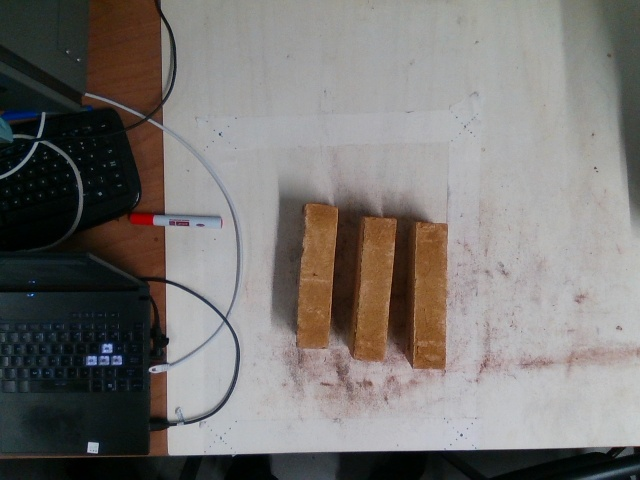brick-side: (354, 216, 395, 359), (297, 206, 334, 348), (414, 224, 444, 365)
